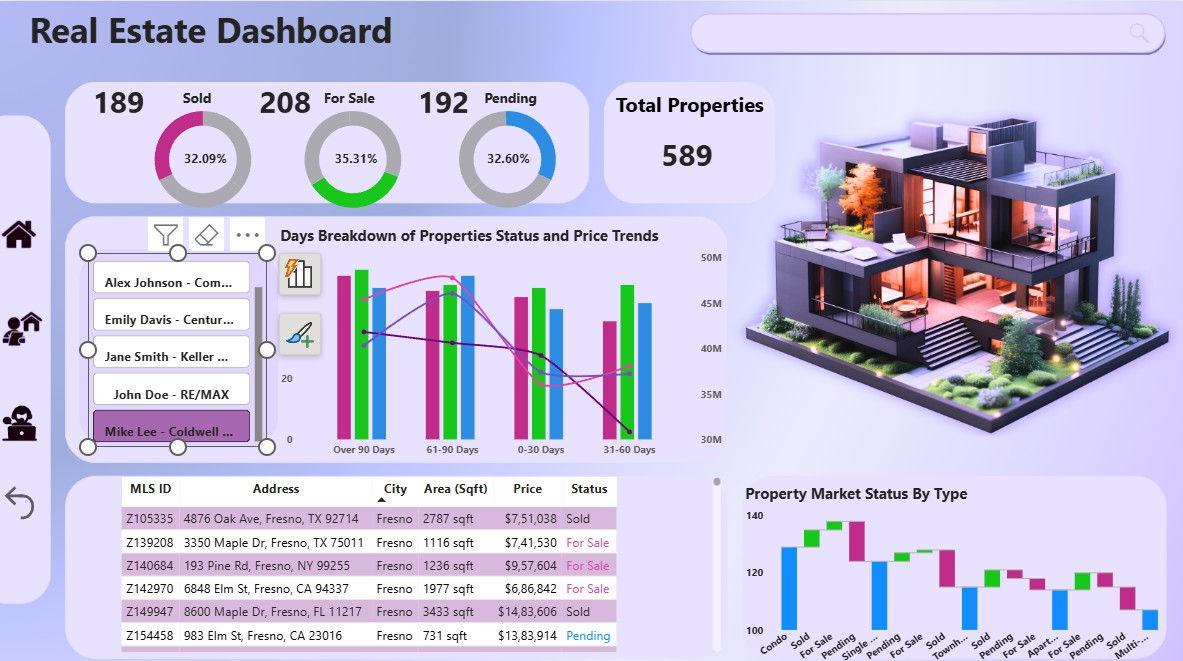

Layout of this report page (visuals, bound fields, positions):
{"tool":"powerbi","page":{"name":"Page 1","canvas":[1280,720],"ordinal":0},"visuals":[{"type":"textbox","box":[15.9,0,425.4,60.3],"z":0},{"type":"card","fields":{"Values":["RealEstate_Dataset.Total Properties"]},"box":[633.1,90.7,216.3,149.5],"z":1000},{"type":"card","fields":{"Values":["RealEstate_Dataset.Prpperties Sold"]},"box":[85.7,90,87.3,34.9],"z":2000},{"type":"card","fields":{"Values":["RealEstate_Dataset.Properties for Sale"]},"box":[270.4,90,74.8,35],"z":3000},{"type":"card","fields":{"Values":["RealEstate_Dataset.Properties Pending"]},"box":[440.6,90,76.3,35],"z":4000},{"type":"card","fields":{"Values":["RealEstate_Dataset.Percent of Properties Sold"]},"box":[194.1,156.9,58.9,28.6],"z":5000},{"type":"card","fields":{"Values":["RealEstate_Dataset.Percentage of Properties for Sale"]},"box":[351.5,155.3,66.8,31.8],"z":6000},{"type":"card","fields":{"Values":["RealEstate_Dataset.Pending Properties Percentage"]},"box":[516.9,153.8,62,35],"z":7000},{"type":"donutChart","fields":{"Y":["RealEstate_Dataset.Status"],"Category":["RealEstate_Dataset.Status"]},"box":[150,100.2,140,140],"z":8000},{"type":"donutChart","fields":{"Y":["RealEstate_Dataset.Status"],"Category":["RealEstate_Dataset.Status"]},"box":[477,100.2,140,140],"z":9000},{"type":"donutChart","fields":{"Y":["RealEstate_Dataset.Status"],"Category":["RealEstate_Dataset.Status"]},"box":[311,100.2,140,140],"z":10000},{"type":"textbox","box":[639.4,90.7,210,49.3],"z":11000},{"type":"lineClusteredColumnComboChart","title":"Days Breakdown of Properties Status and Price Trends","fields":{"Category":["RealEstate_Dataset.Days on Market Catagory"],"Y":["RealEstate_Dataset.Properties Sold","RealEstate_Dataset.Properties for Sale","RealEstate_Dataset.Properties Pending"],"Y2":["RealEstate_Dataset.Total Sold Price","RealEstate_Dataset.Total Sale Price","RealEstate_Dataset.Total Pending Price"]},"box":[298,239.7,485,258.7],"z":12000},{"type":"tableEx","fields":{"Values":["RealEstate_Dataset.MLS ID","RealEstate_Dataset.Address","RealEstate_Dataset.City","RealEstate_Dataset.Area (Sqft)","RealEstate_Dataset.Price","RealEstate_Dataset.Status"]},"box":[128,507,655,198],"z":13000},{"type":"waterfallChart","title":"Property Market Status By Type","fields":{"Category":["RealEstate_Dataset.Property Type"],"Breakdown":["RealEstate_Dataset.Status"],"Y":["RealEstate_Dataset.Status"]},"box":[798.4,517.5,463.5,203.2],"z":14000},{"type":"advancedSlicerVisual","fields":{"Values":["RealEstate_Dataset.Listing Agent"]},"box":[97,270.4,192.5,208.4],"z":15000},{"type":"textbox","box":[128.6,88,169.8,63.5],"z":16000},{"type":"textbox","box":[344.4,88,96.8,95.2],"z":17000},{"type":"textbox","box":[517.5,88,79.4,31.7],"z":18000},{"type":"actionButton","box":[0,528.4,55.4,50],"z":19000}]}

Visuals, with their boxes on the page's 1280x720 design canvas (x1, y1, x2, y2). These are canvas units, not pixel positions in the 1183x661 screenshot, which may show the page scaled, cropped or inside an application window:
textbox: 16, 0, 441, 60
card - RealEstate_Dataset.Total Properties: 633, 91, 849, 240
card - RealEstate_Dataset.Prpperties Sold: 86, 90, 173, 125
card - RealEstate_Dataset.Properties for Sale: 270, 90, 345, 125
card - RealEstate_Dataset.Properties Pending: 441, 90, 517, 125
card - RealEstate_Dataset.Percent of Properties Sold: 194, 157, 253, 186
card - RealEstate_Dataset.Percentage of Properties for Sale: 352, 155, 418, 187
card - RealEstate_Dataset.Pending Properties Percentage: 517, 154, 579, 189
donutChart - RealEstate_Dataset.Status x RealEstate_Dataset.Status: 150, 100, 290, 240
donutChart - RealEstate_Dataset.Status x RealEstate_Dataset.Status: 477, 100, 617, 240
donutChart - RealEstate_Dataset.Status x RealEstate_Dataset.Status: 311, 100, 451, 240
textbox: 639, 91, 849, 140
"Days Breakdown of Properties Status and Price Trends" lineClusteredColumnComboChart: 298, 240, 783, 498
tableEx - RealEstate_Dataset.MLS ID x RealEstate_Dataset.Address: 128, 507, 783, 705
"Property Market Status By Type" waterfallChart: 798, 518, 1262, 721
advancedSlicerVisual - RealEstate_Dataset.Listing Agent: 97, 270, 290, 479
textbox: 129, 88, 298, 152
textbox: 344, 88, 441, 183
textbox: 518, 88, 597, 120
actionButton: 0, 528, 55, 578
